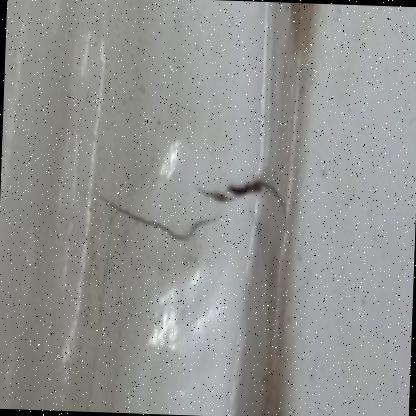Crack: (77, 98, 305, 316)
